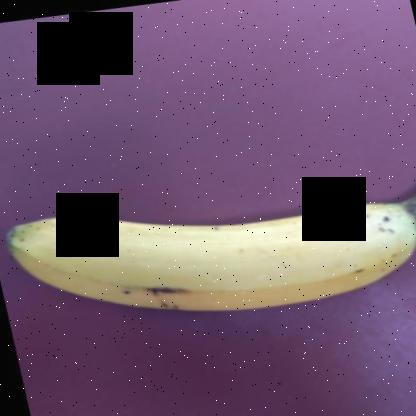freshripe: (1, 183, 415, 333)
